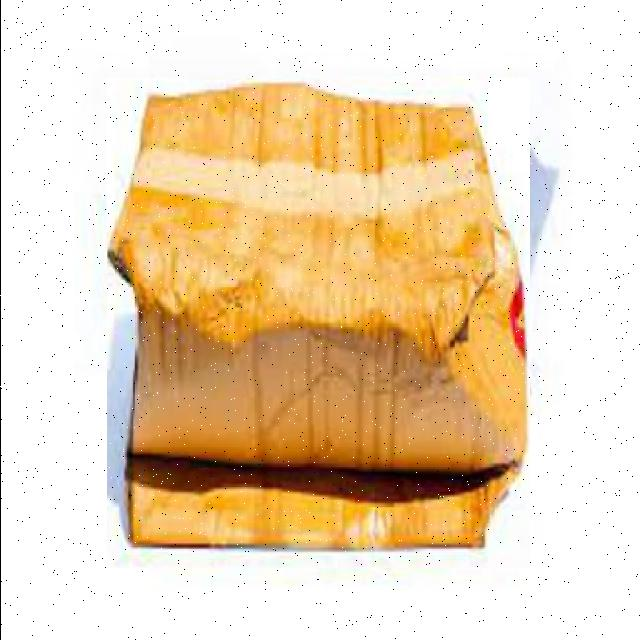defect: (106, 78, 529, 568)
